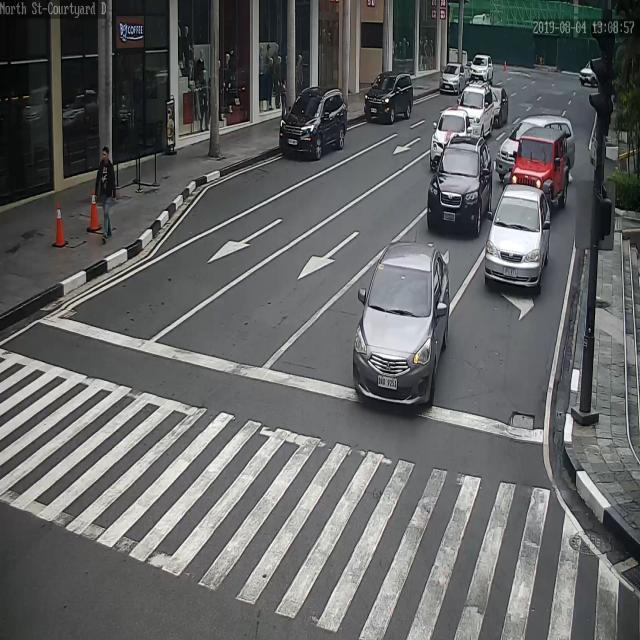car: (354, 241, 450, 406), (484, 184, 552, 288), (427, 134, 494, 235), (279, 85, 350, 161), (499, 115, 574, 168), (364, 69, 414, 123), (430, 110, 474, 168), (457, 81, 499, 132), (440, 62, 467, 92), (493, 84, 511, 126), (470, 55, 493, 83), (579, 60, 600, 88)
tricycle: (500, 123, 575, 210)
